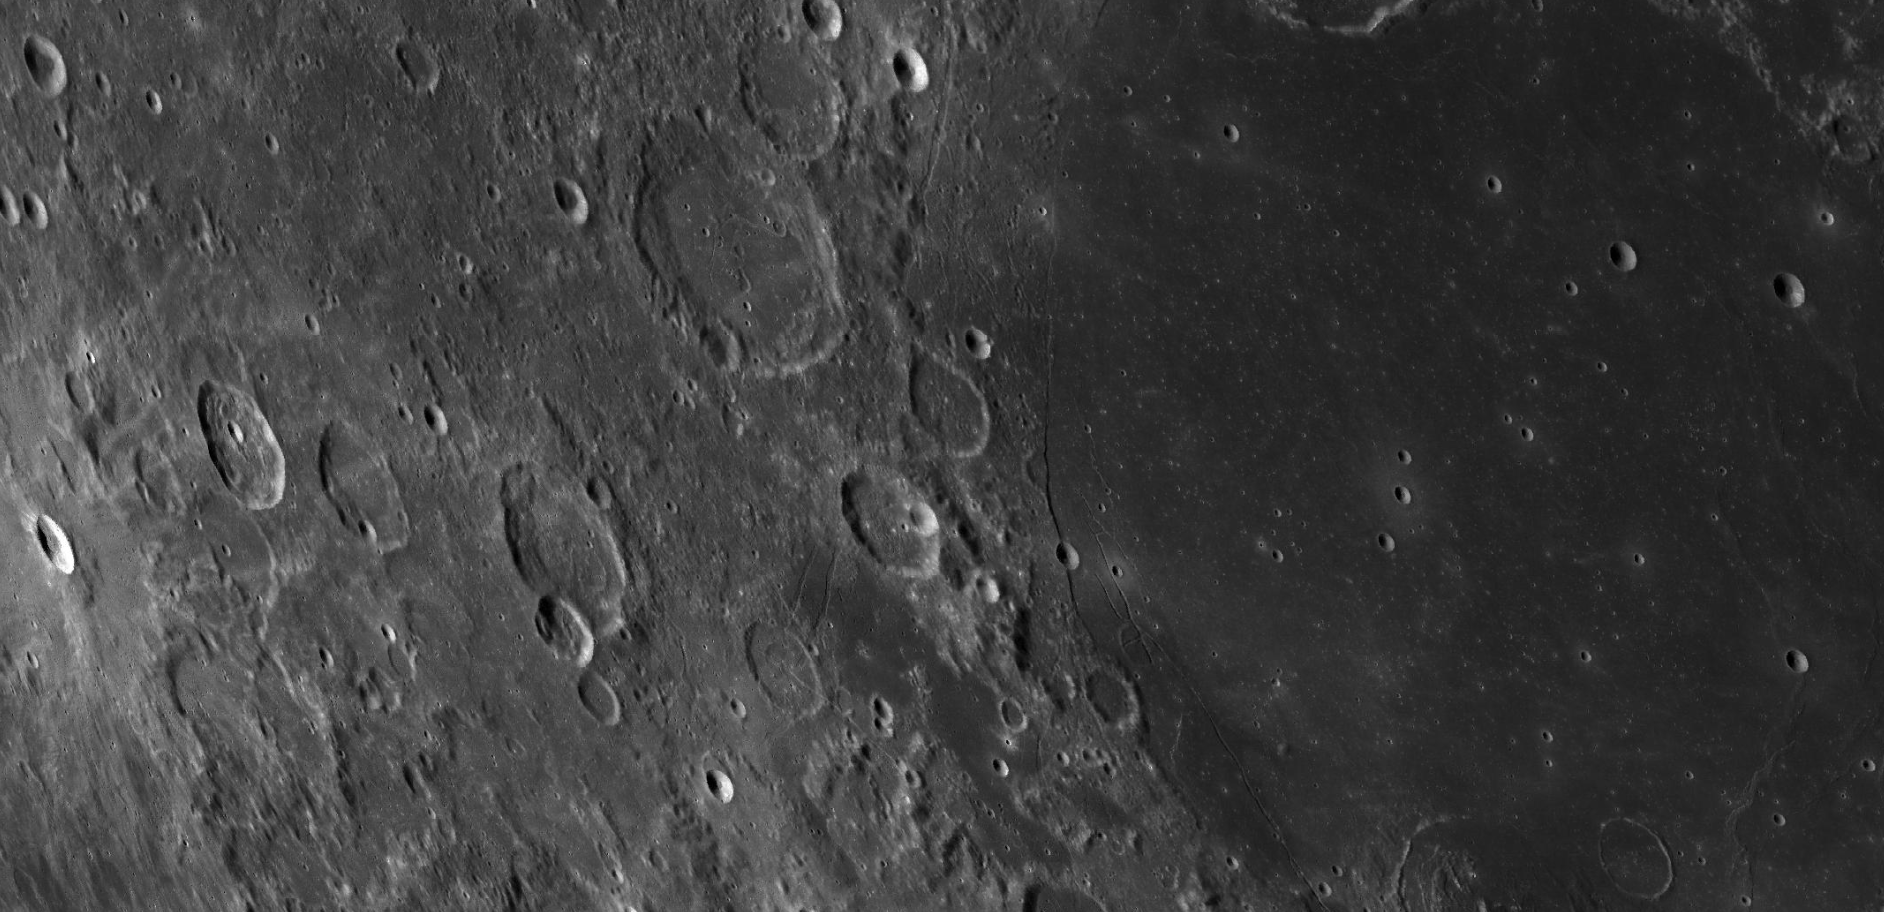crater: (597, 84, 876, 421), (816, 448, 977, 602), (181, 354, 297, 540), (5, 461, 111, 658), (309, 399, 416, 583), (708, 604, 845, 739), (679, 756, 764, 822), (383, 30, 458, 105), (1761, 254, 1831, 333), (1599, 217, 1664, 296), (1566, 628, 1602, 672), (1369, 527, 1405, 566), (1217, 106, 1247, 148)
